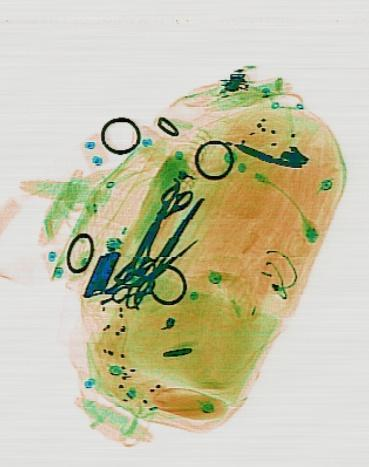Scissors: (118, 183, 227, 332), (132, 175, 195, 258)
